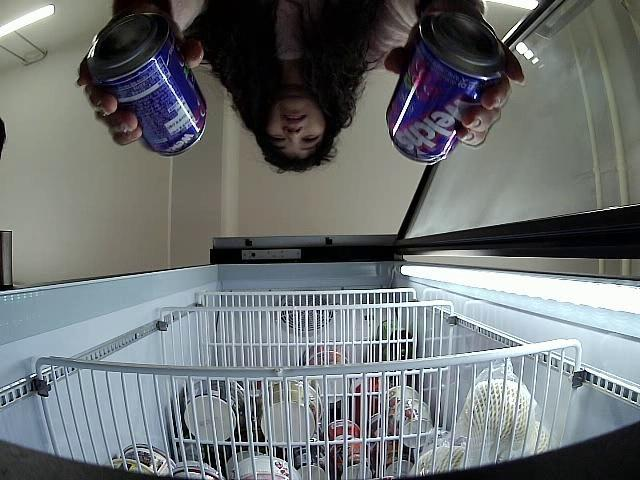14_welchsGrape: (388, 9, 506, 164), (88, 13, 207, 156)
